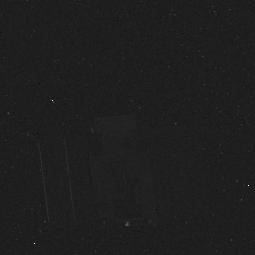proba_2: (47, 104, 178, 231)
